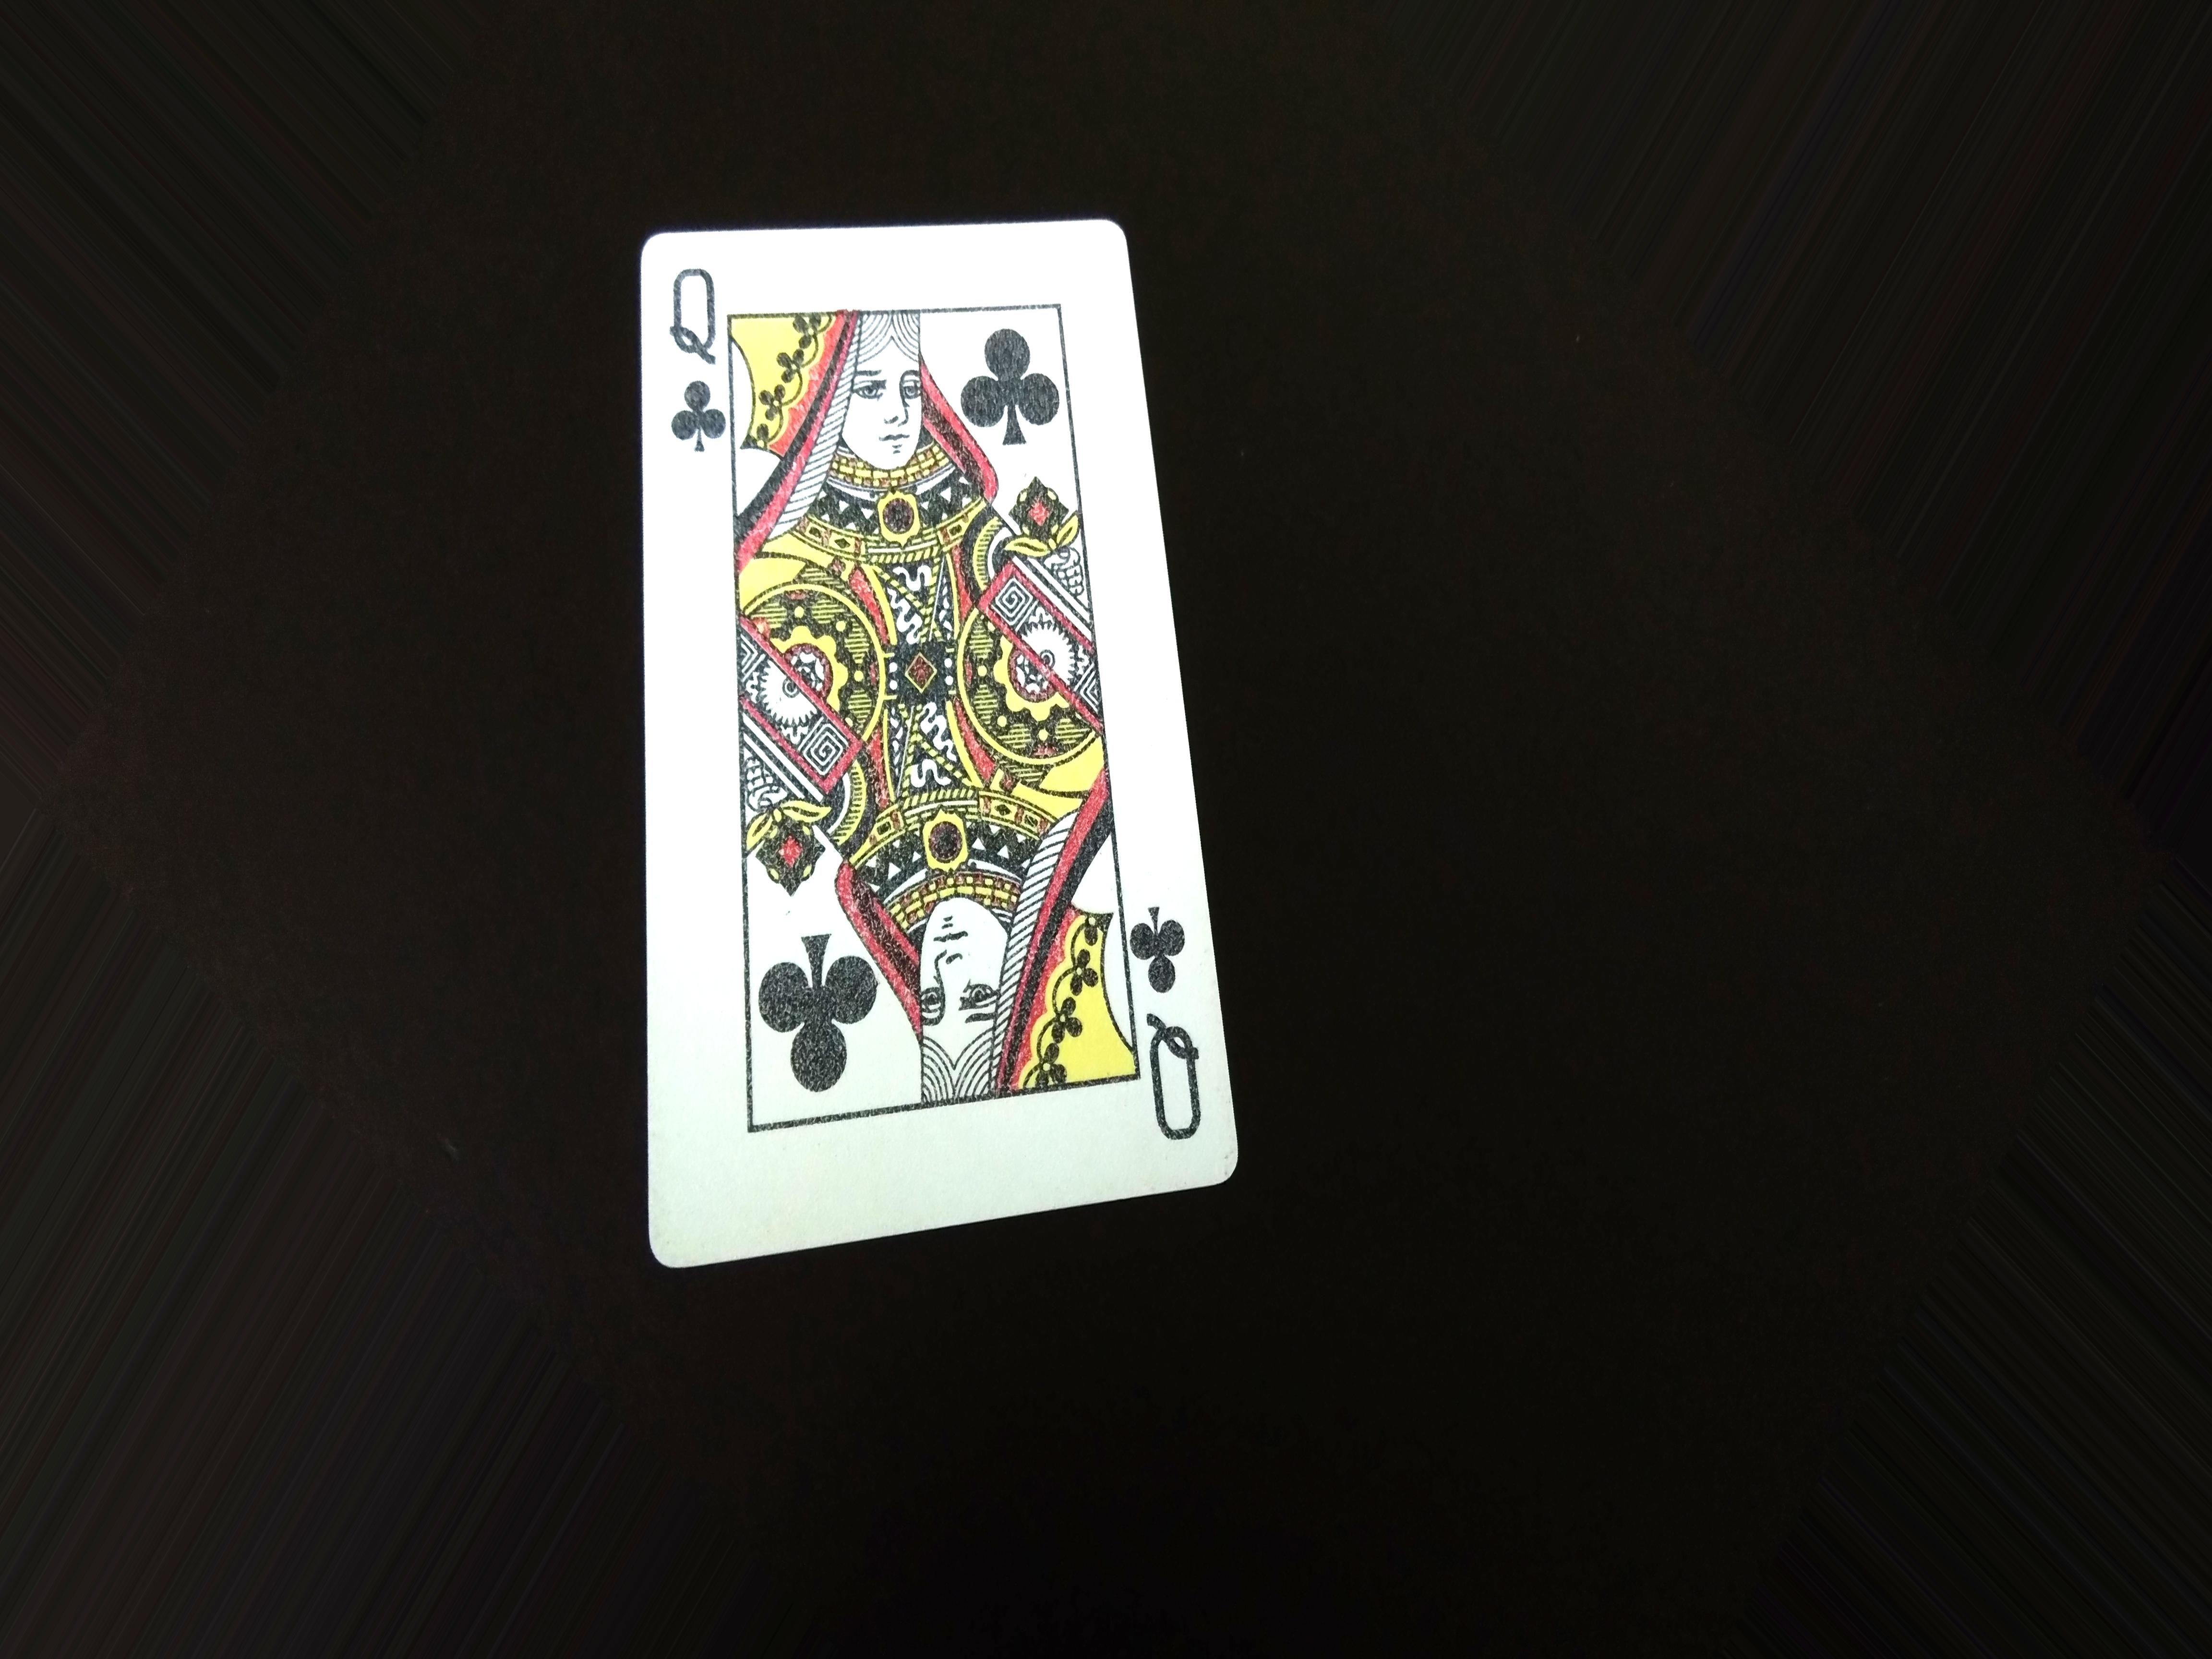QC: (1129, 884, 1219, 1157)
